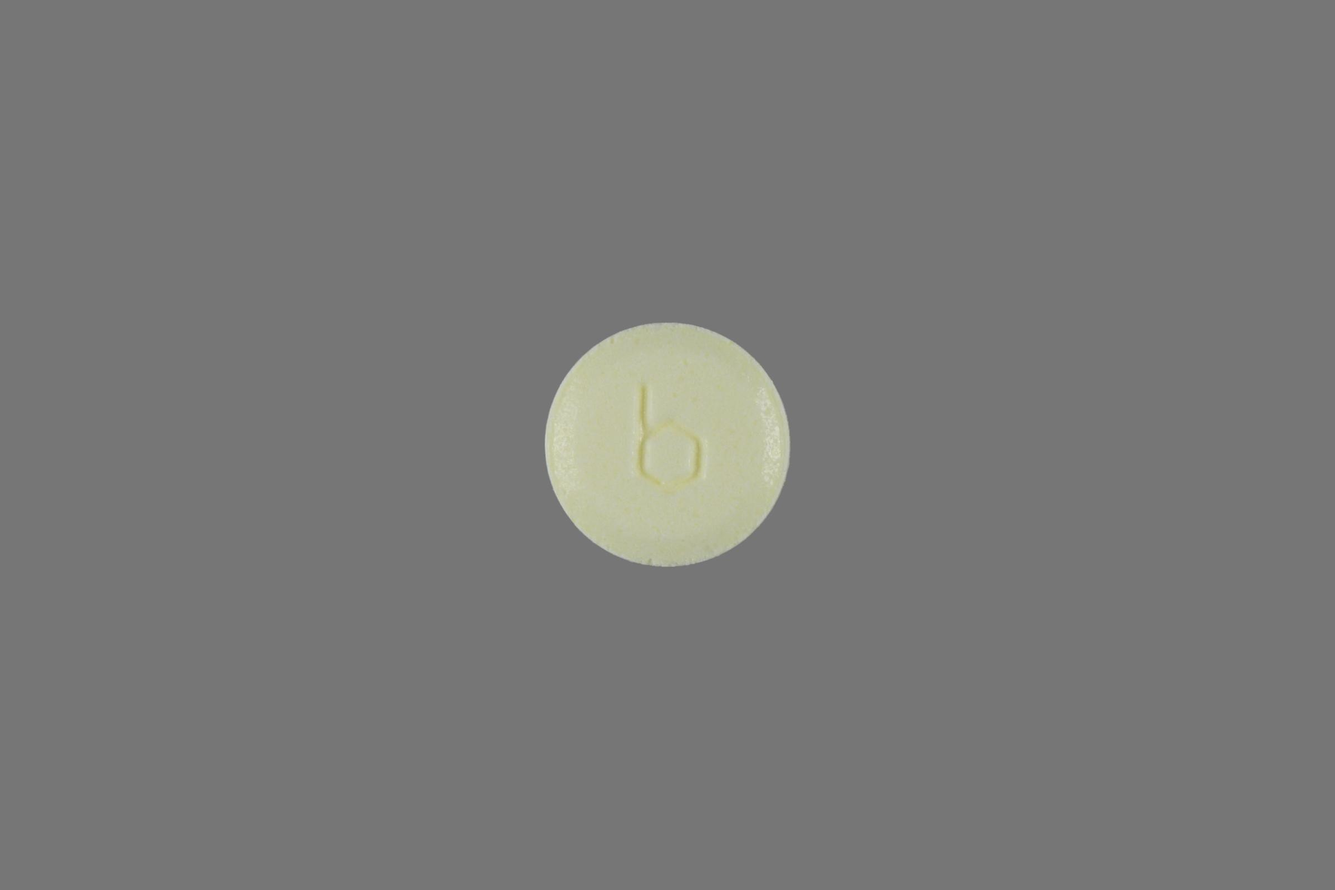Pill: (538, 316, 797, 574)
